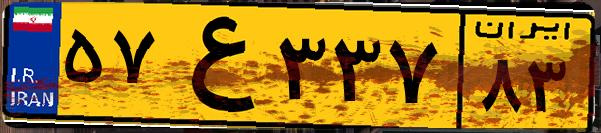3: (270, 28, 330, 110), (330, 28, 385, 110), (525, 38, 570, 115)
5: (57, 26, 110, 100)
7: (385, 28, 445, 110), (110, 28, 158, 98)
8: (475, 38, 525, 113)
ع: (158, 12, 270, 120)
